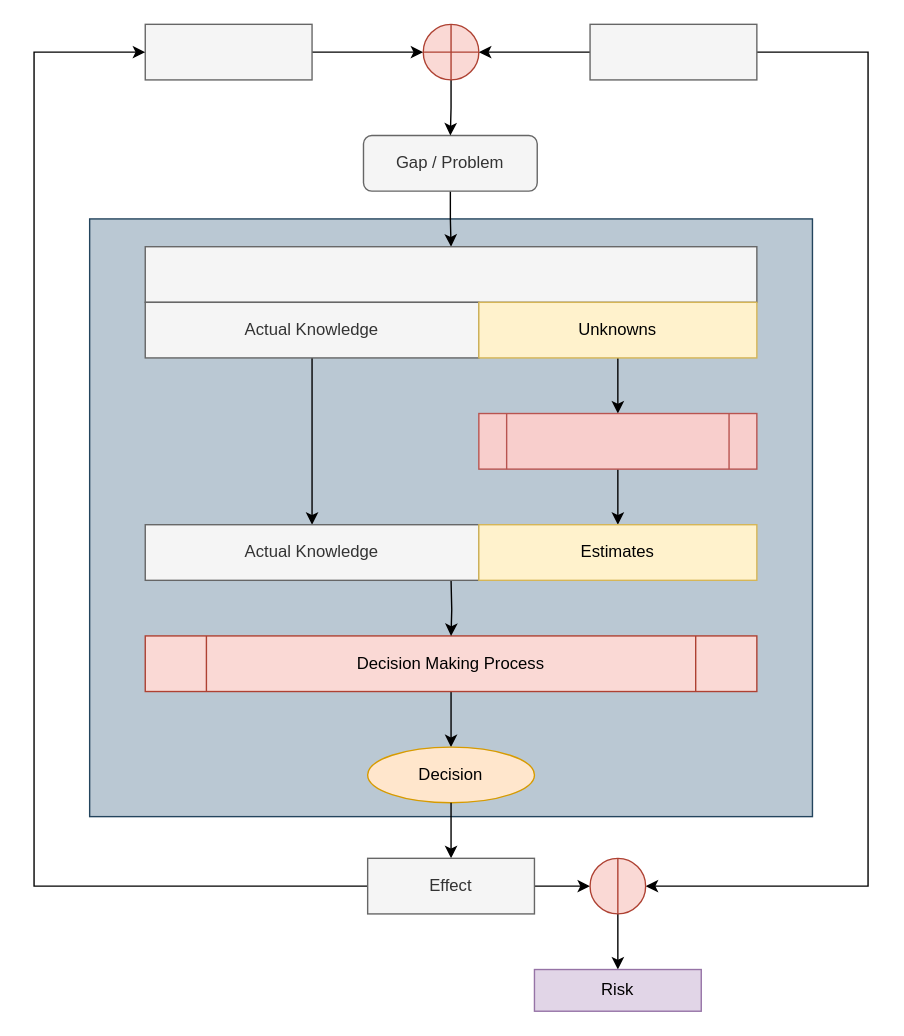
Some shapes in this 904 by 1036 pixel diagram are drawn without their labels. The shapes that lost their labels are listed below. From the top down, each one's centre as x and y in pixels, then its label:
At point (228, 51): "Reality".
At point (673, 51): "Desired State".
At point (450, 273): "Required Information".
At point (617, 440): "Estimation Process".
